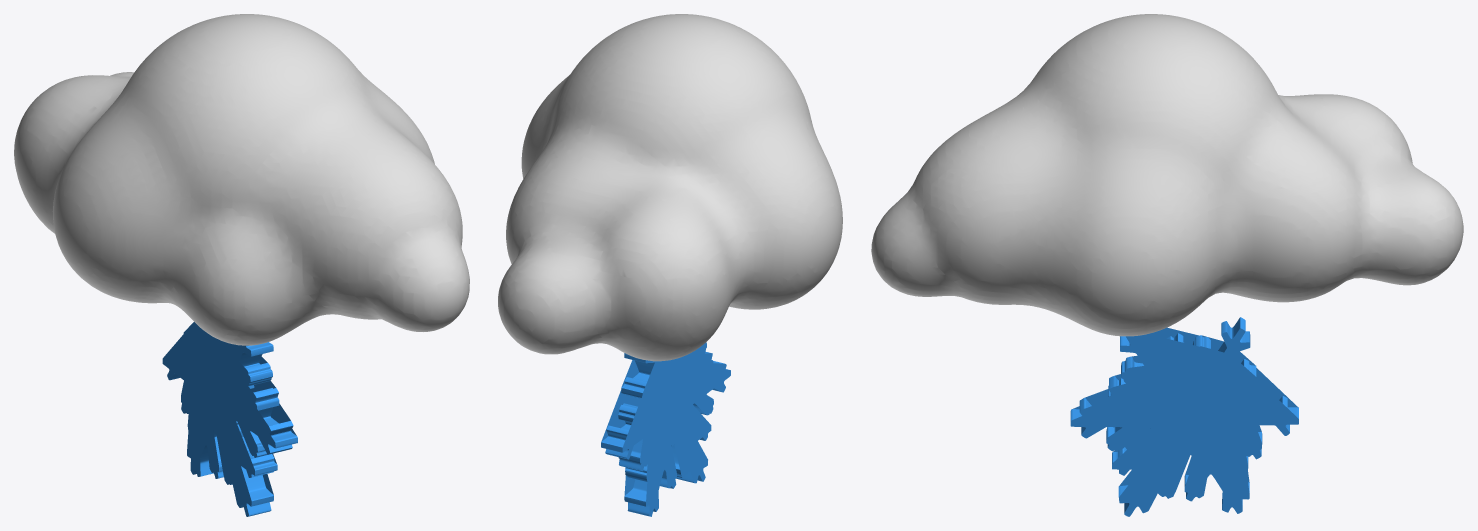
File: mrakVlocka.fbx
3 views of the same model, side by side, from view 1: azimuth 30°, elevation 25°; view 2: azimuth 150°, elevation 25°; view 3: azimuth 270°, elevation 25° (orthographic). The views are drawn at different scales.
Visible parts, largest first — view 1: Mball.002, Trace; view 2: Mball.002, Trace; view 3: Mball.002, Trace.
Part boxes in pixels (<box>): Mball.002: <box>14,14,469,345</box>; Trace: <box>162,322,297,516</box>; Mball.002: <box>498,14,842,361</box>; Trace: <box>601,342,730,516</box>; Mball.002: <box>871,14,1463,336</box>; Trace: <box>1070,317,1298,516</box>.
Size of the model in its own units: 327 by 446 by 494.
